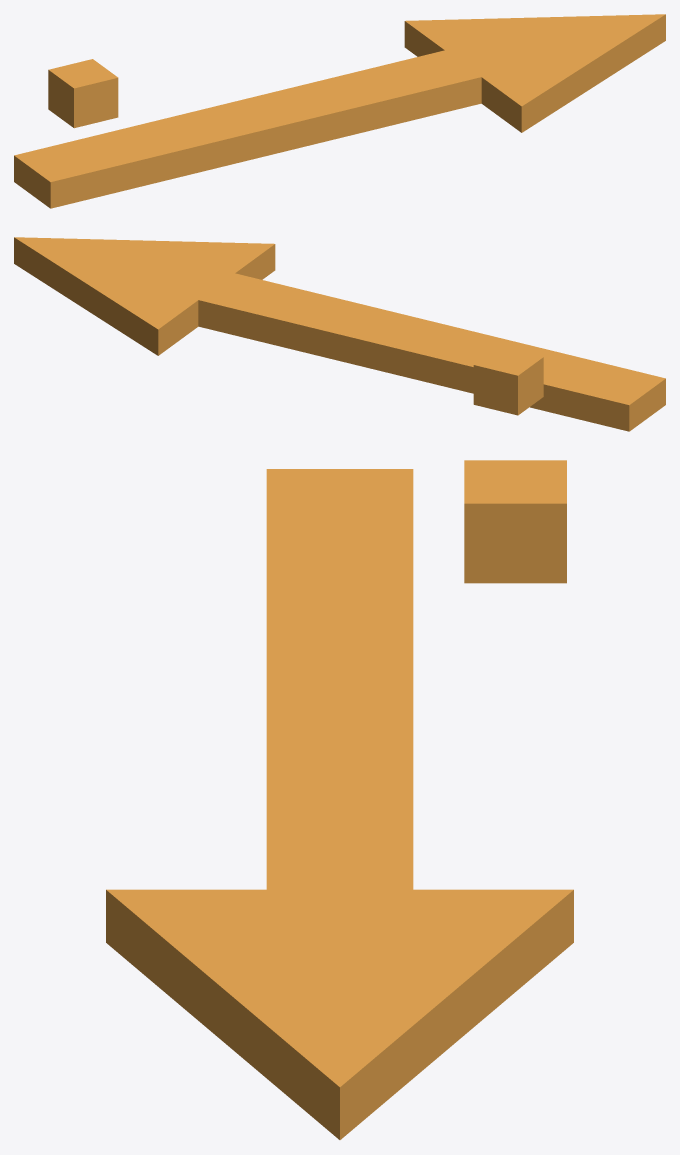
Rendered from SM_ART001_Arrow.fbx.
3 renders of one model, top to bottom at view 1: azimuth 30°, elevation 25°; view 2: azimuth 150°, elevation 25°; view 3: azimuth 270°, elevation 25°, orthographic. The views are drawn at different scales.
Visible parts, largest first — view 1: SM_ART001_Arrow; view 2: SM_ART001_Arrow; view 3: SM_ART001_Arrow.
Part boxes in pixels (box(x1,y1,x2,y2)): SM_ART001_Arrow: box(14, 14, 665, 208); SM_ART001_Arrow: box(14, 237, 665, 431); SM_ART001_Arrow: box(106, 460, 573, 1139).
Size of the model in its own units: 100 by 32 by 10.
